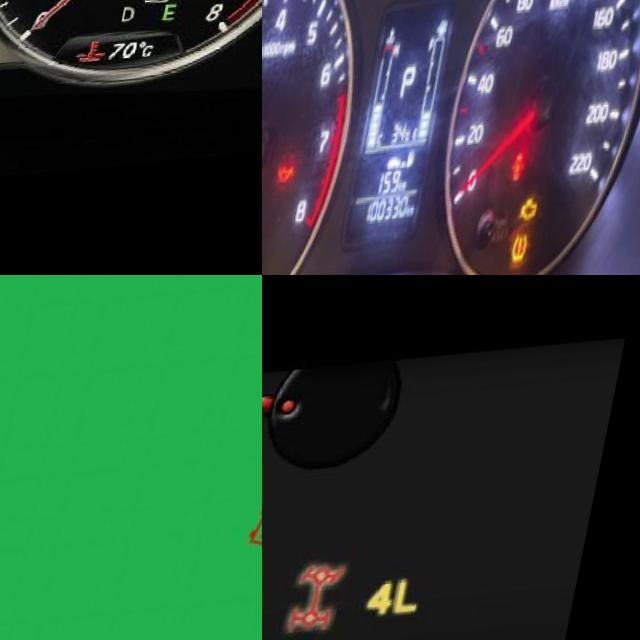Engine cooling system: (89, 40, 128, 71)
